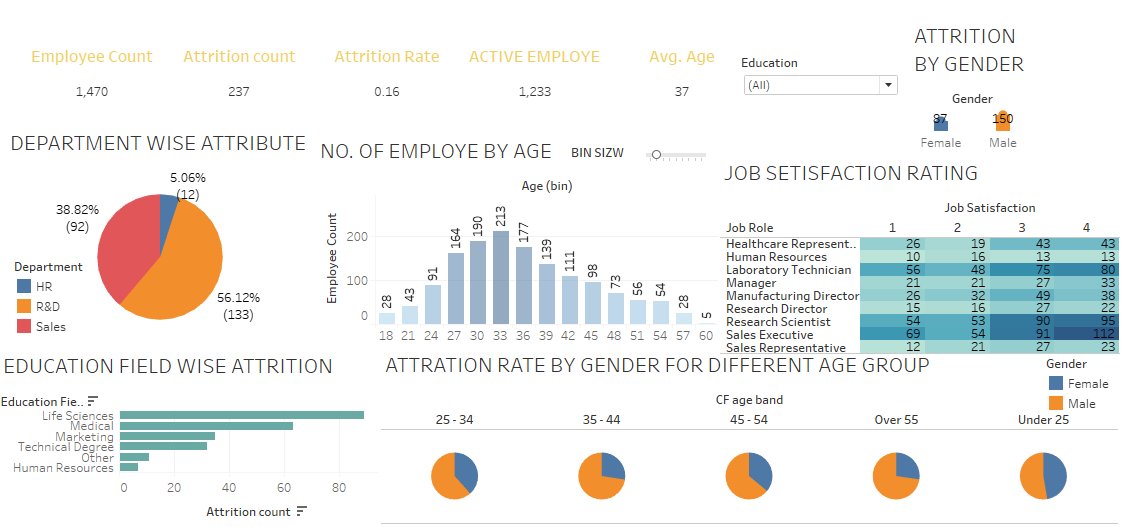

Layout of this report page (visuals, bound fields, positions):
{"tool":"tableau","page":{"name":"HR ANALYTIC DASHBORD","canvas":[1000,1000],"units":"permille","ordinal":0},"visuals":[{"type":"worksheet","title":"ATTRIBUTE BY GENDER","mark":"Automatic","rows":["Calculation_1505046722567282688","Calculation_1505046722567282688"],"cols":["Gender"],"box":[806.9,82.1,108.9,241.1]},{"type":"worksheet","title":"KPI","mark":"Automatic","box":[23.7,100,647.9,157.1]},{"type":"filter","title":"Sheet 3","param":"[federated.0unq7je0sr63o7110l65y1uyz4jy].[none:Education:nk]","box":[658.5,148.2,140.5,82.1]},{"type":"worksheet","title":"Sheet 3","mark":"Pie","box":[13.2,273.2,270.4,398.2]},{"type":"worksheet","title":"NO. OF EMPLOYE BY AGE","mark":"Automatic","rows":["Employee Count"],"cols":["Age (bin)"],"box":[285.3,287.5,352.9,380.4]},{"type":"parameter","param":"[Parameters].[Parameter 1]","box":[509.2,305.4,121.2,64.3]},{"type":"worksheet","title":"JOB SETISFACTION RATING","mark":"Square","rows":["Job Role"],"cols":["Job Satisfaction"],"box":[640,326.8,351.2,358.9]},{"type":"legend","title":"Sheet 3","param":"[federated.0unq7je0sr63o7110l65y1uyz4jy].[none:Department:nk]","box":[20.2,512.5,122.9,139.3]},{"type":"worksheet","title":"ATTRATION RATE BY GENDER FOR DIFFERENT AGE GROUP","mark":"Pie","cols":["CF_age band"],"box":[342.4,669.6,647.1,317.9]},{"type":"worksheet","title":"EDUCATION FIELD WISE ATTRITION","mark":"Automatic","rows":["Education Field"],"cols":["Calculation_1505046722567282688"],"box":[7,671.4,332.8,323.2]}]}

Visuals, with their boxes on the dashboard's canvas, which has no fixed pixel size, in thousandths of its width and height (x1, y1, x2, y2). These are canvas units, not pixel positions in the 1128x527 screenshot, which may show the page scaled, cropped or inside an application window:
"ATTRIBUTE BY GENDER" worksheet: select_region(807, 82, 916, 323)
"KPI" worksheet: select_region(24, 100, 672, 257)
"Sheet 3" filter: select_region(658, 148, 799, 230)
"Sheet 3" worksheet (Pie marks): select_region(13, 273, 284, 671)
"NO. OF EMPLOYE BY AGE" worksheet: select_region(285, 288, 638, 668)
parameter: select_region(509, 305, 630, 370)
"JOB SETISFACTION RATING" worksheet (Square marks): select_region(640, 327, 991, 686)
"Sheet 3" legend: select_region(20, 512, 143, 652)
"ATTRATION RATE BY GENDER FOR DIFFERENT AGE GROUP" worksheet (Pie marks): select_region(342, 670, 990, 988)
"EDUCATION FIELD WISE ATTRITION" worksheet: select_region(7, 671, 340, 995)
